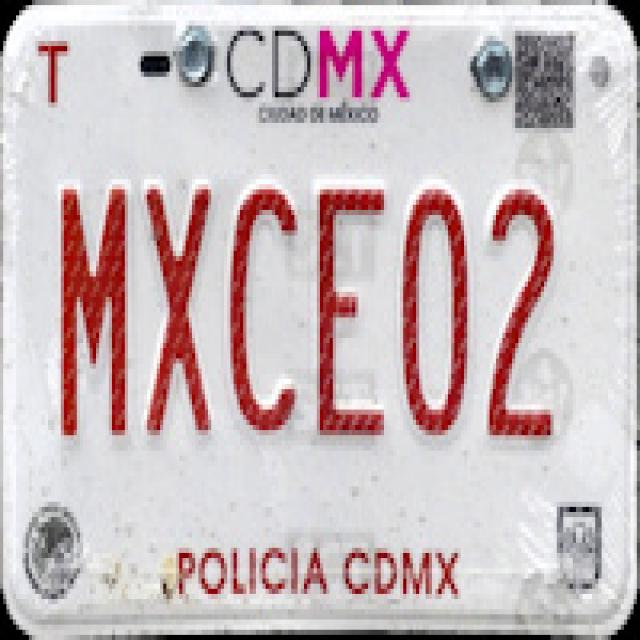placa: (0, 147, 606, 465)
